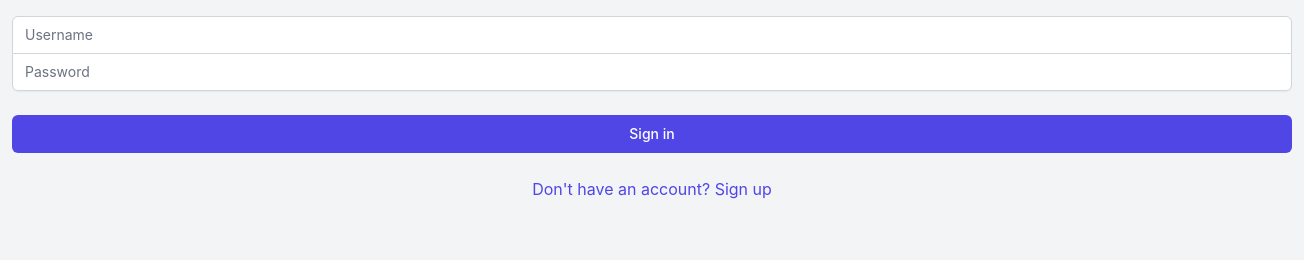
it: LoginForm Component › displays error message on login failure
The image size is (1304, 260).
Type "testuser" into the field labelled "Username".
click(652, 35); type("testuser")  # box left=12, top=16, right=1292, bottom=54
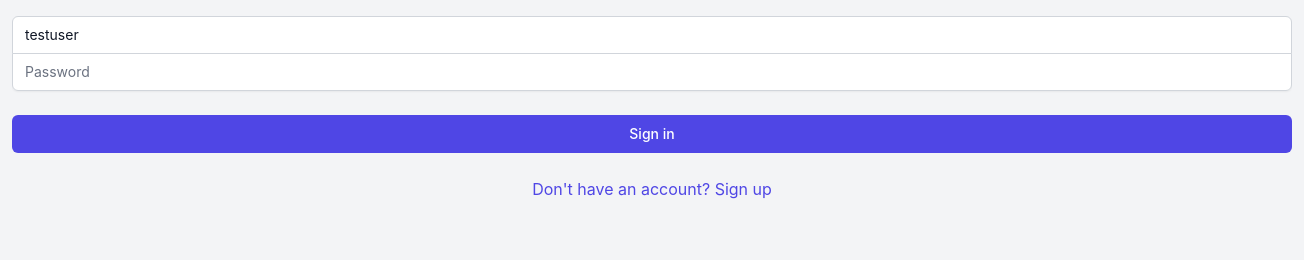
Type "wrongpassword" into the password field labelled "Password".
click(652, 72); type("wrongpassword")  # box left=12, top=53, right=1292, bottom=91
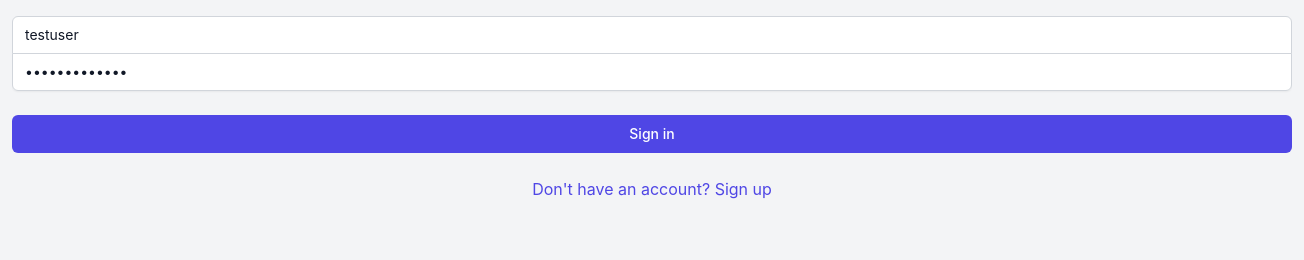
Click the button "Sign in".
click(652, 134)  # box left=12, top=115, right=1292, bottom=153
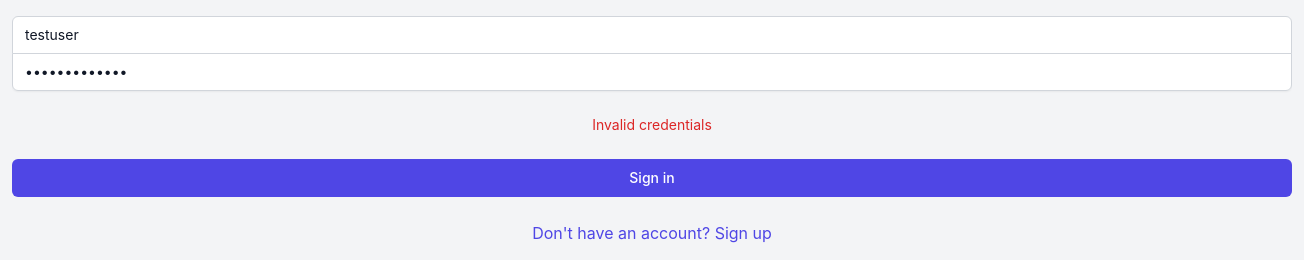
Result: the text "Invalid credentials" is shown at left=592, top=116, right=712, bottom=133
